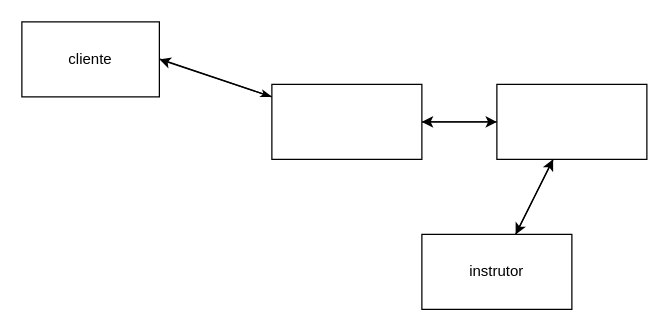
Image size: 669x331. Some labels were removed from this diagram. Each missing label, with the centre of its shape:
"curso" belongs at [571,121].
"transaçao" belongs at [346,121].
